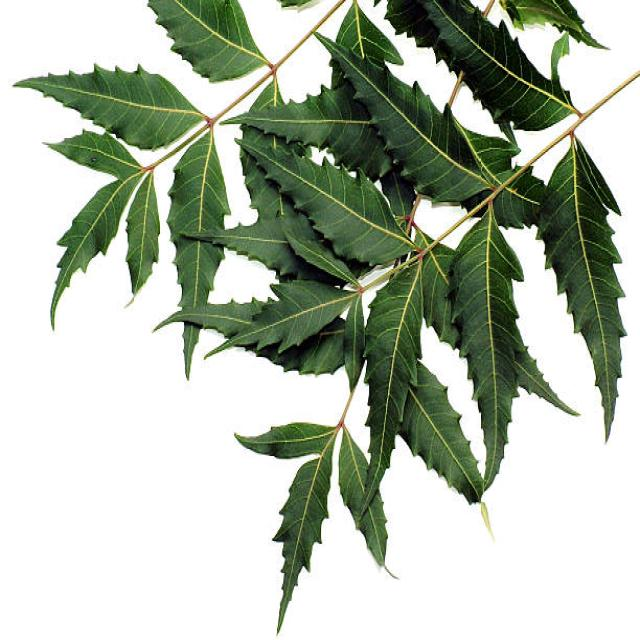Neem-Tree: (18, 0, 640, 628)
